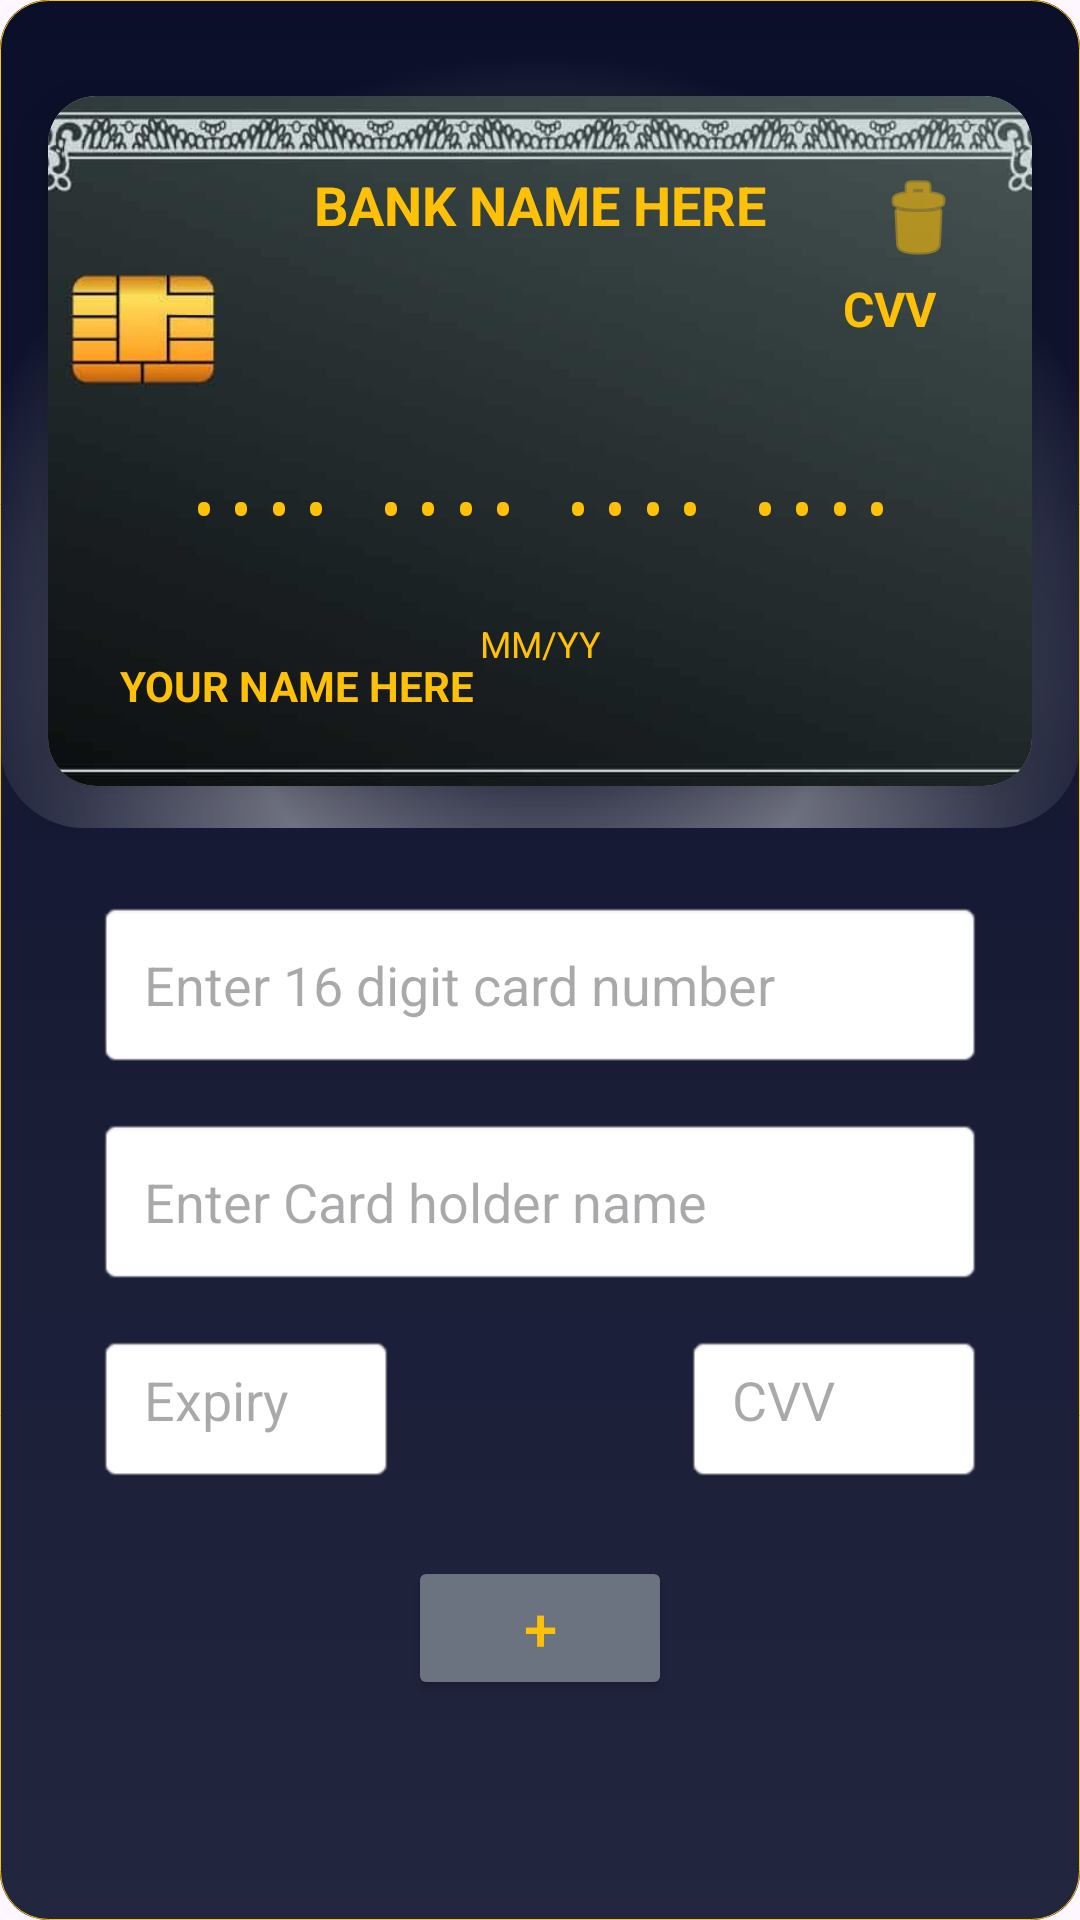

Named icons in this screenshot (1080*1920) and their bounding boxes, Rect(x1, y1, x2, y2):
Delete Card: Rect(891, 180, 946, 255)
